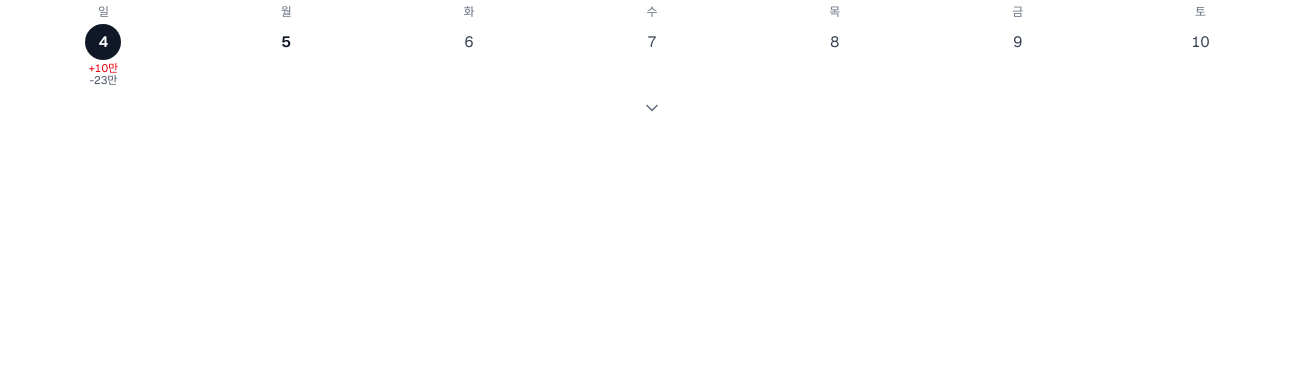
LedgerDateStrip › 펼친 달력에서 날짜를 누르면 접히고 그 날짜를 알린다
The image size is (1304, 377).
Click the button named "월간 달력 펼치기" at (652, 108), box [12,86,1292,130]
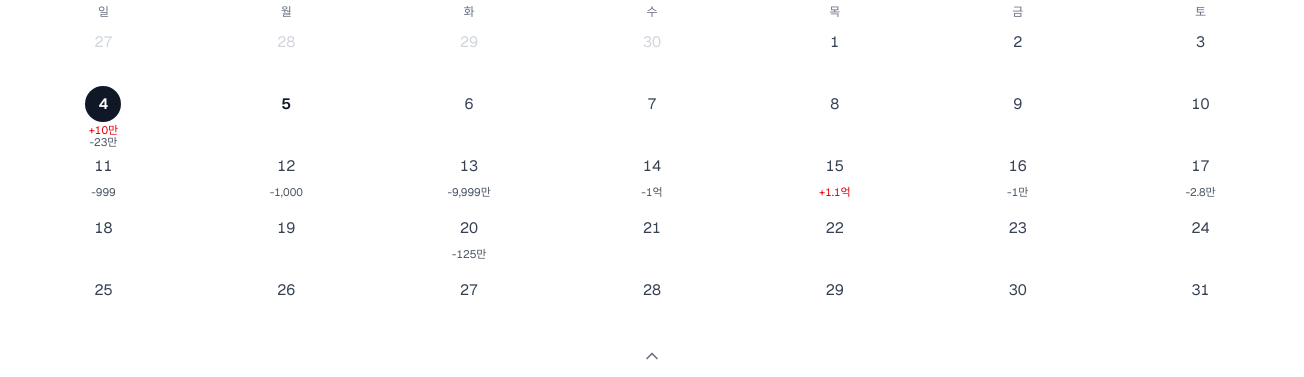
Click the button named "10월 20일" at (469, 241), box [378,210,561,272]
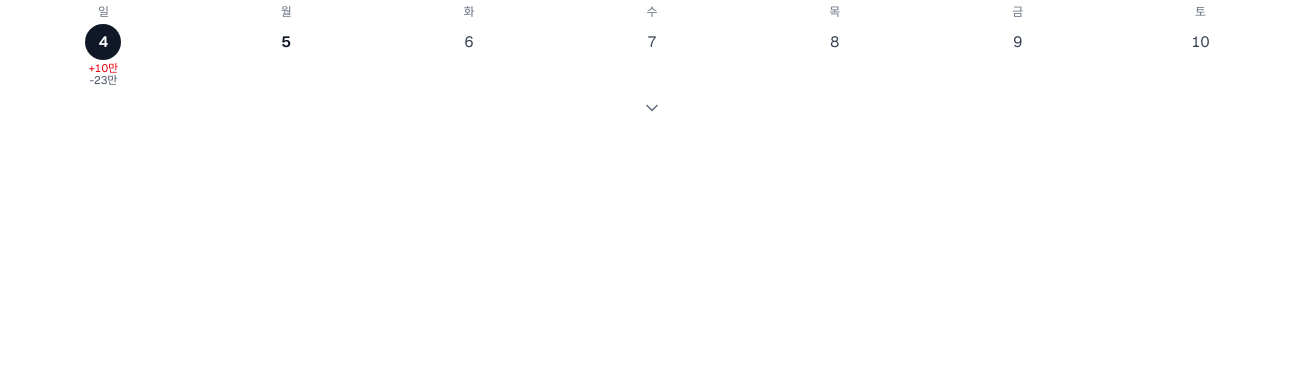
Expected: the number of buttons "4 +10만 -23만" is 7
Expected: the button named "월간 달력 펼치기" is collapsed, [12,86,1292,130]
